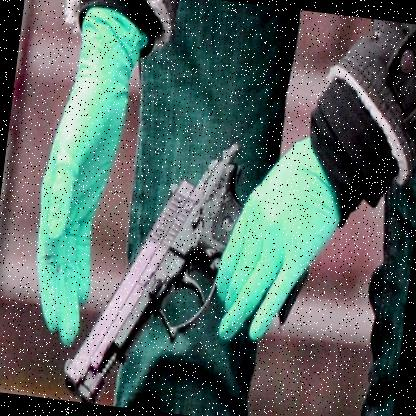rifle: (50, 122, 316, 416)
